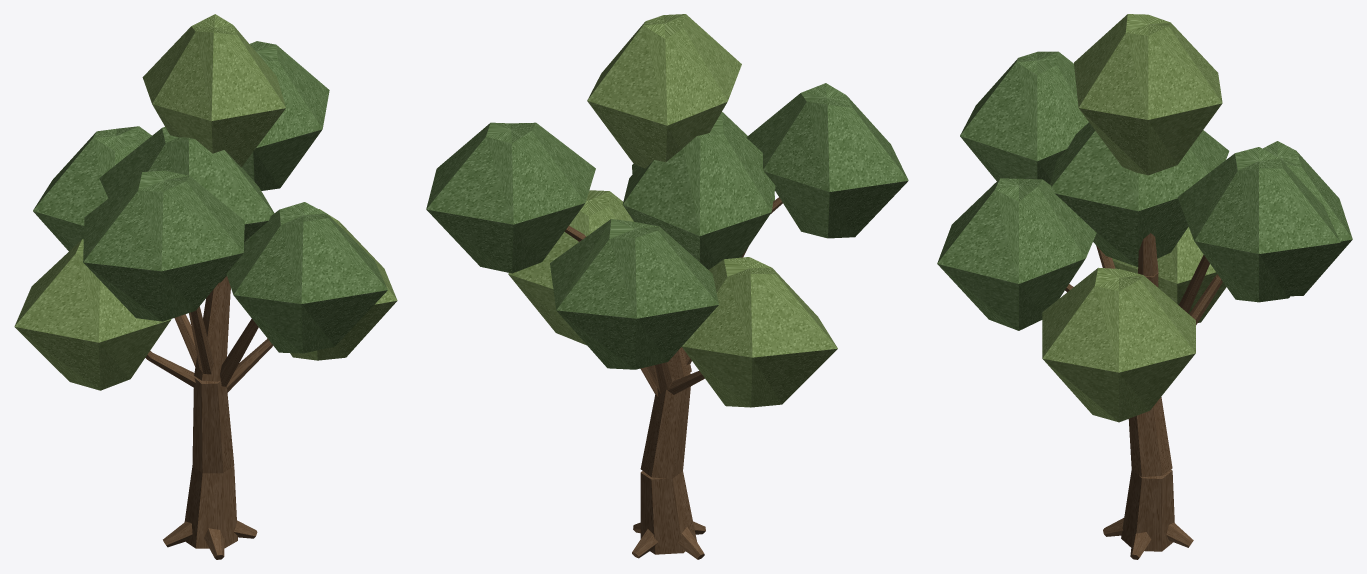
Rendered from tree_01.glb.
3 renders of one model, left to right at view 1: azimuth 30°, elevation 25°; view 2: azimuth 150°, elevation 25°; view 3: azimuth 270°, elevation 25°, orthographic.
Parts seen in each view (by area): view 1: outdoor_tree_01; view 2: outdoor_tree_01; view 3: outdoor_tree_01.
Part boxes in pixels (box(x1,y1,x2,y2)): outdoor_tree_01: box(14, 14, 397, 559); outdoor_tree_01: box(426, 14, 908, 559); outdoor_tree_01: box(937, 14, 1352, 559).
Size of the model in its own units: 4.6 by 6.4 by 4.6.
Materials: 2 (2 with a texture image).
